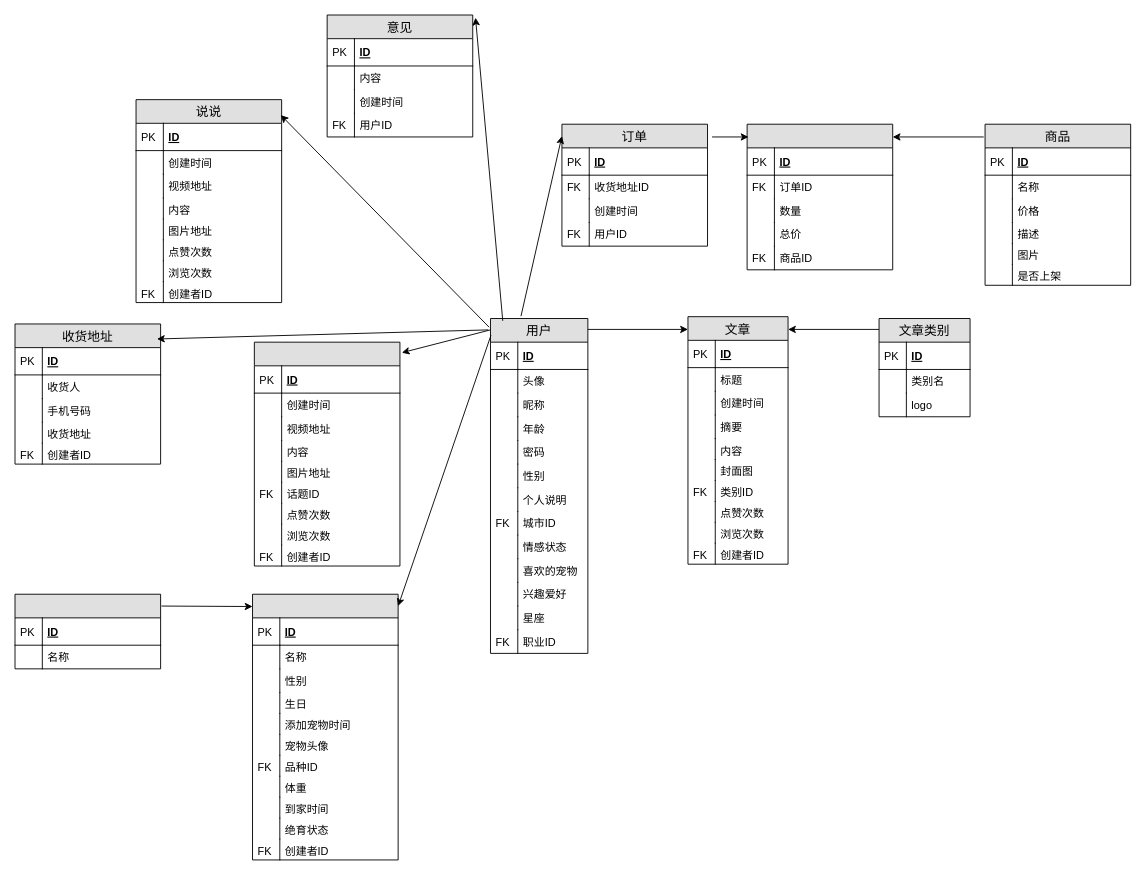
Some shapes in this 1146 by 875 pixel diagram are drawn without their labels. The box of each missing label's shape, as (x1, y1, x2, y2) in pixels:
宠物: (252, 593, 398, 860)
宠物品种: (14, 593, 161, 669)
帖子: (253, 341, 400, 566)
订单明细: (746, 123, 893, 270)
